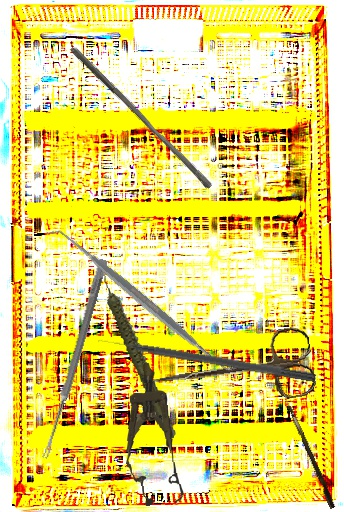Handpiece: (100, 260, 178, 446)
Hook Surgical: (270, 376, 338, 510)
Iris Scissors: (148, 324, 318, 420)
Pusher: (64, 45, 218, 190), (97, 332, 318, 384)
Spatula Surgical: (44, 214, 240, 386)
Speculum: (117, 360, 188, 508)
Surgical Spoon: (41, 258, 108, 460)
